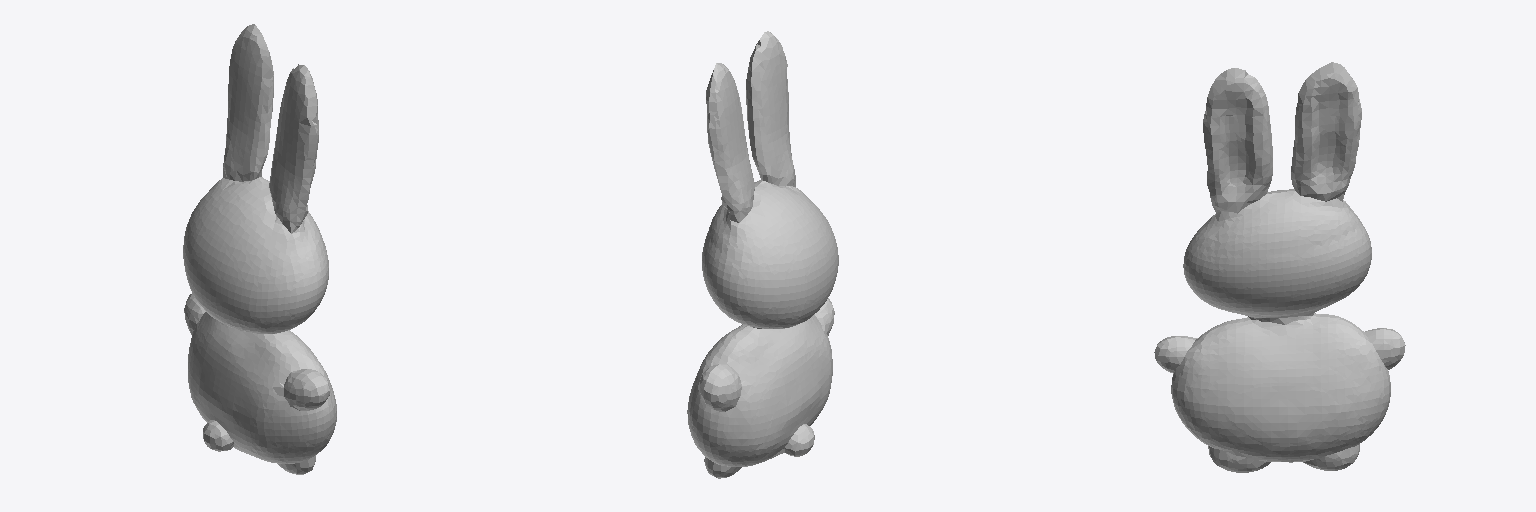
File: rabbit_aug_2.obj
3 views of the same model, side by side, from view 1: azimuth 30°, elevation 25°; view 2: azimuth 150°, elevation 25°; view 3: azimuth 270°, elevation 25° (orthographic).
Bounding box in the file's own units: 27.22 × 100 × 55.19.